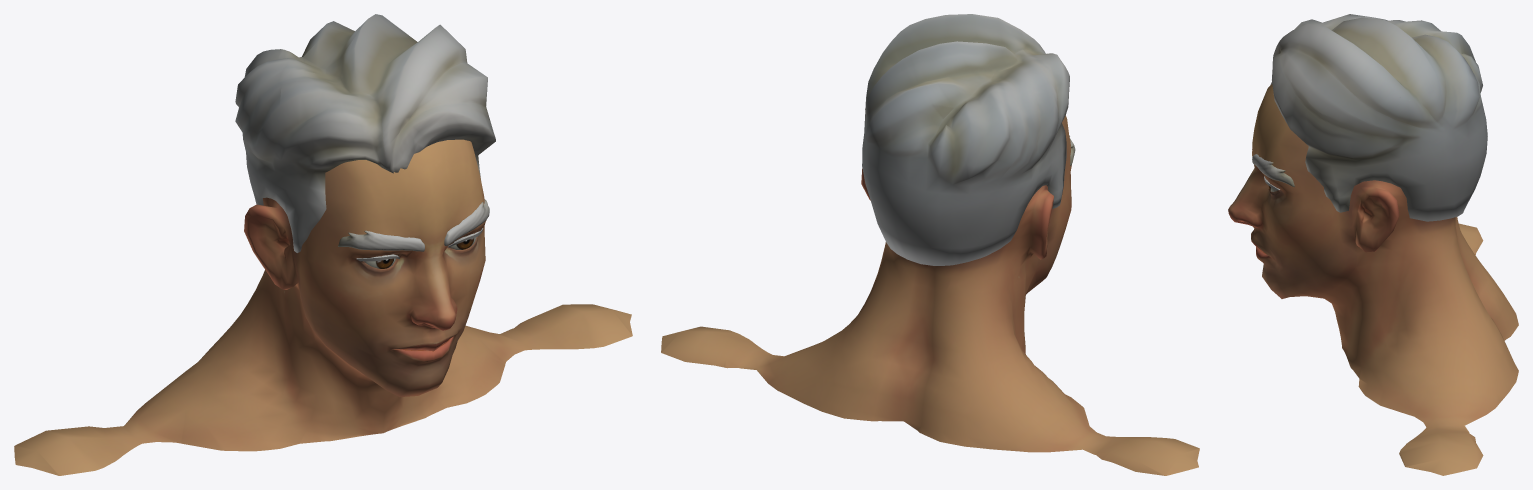
File: brasa.glb
3 renders of one model, left to right at view 1: azimuth 30°, elevation 25°; view 2: azimuth 150°, elevation 25°; view 3: azimuth 270°, elevation 25°, orthographic. The views are drawn at different scales.
Parts seen in each view (by area): view 1: SuperHero_Male, Hair_SimpleParted, Eyebrows; view 2: SuperHero_Male, Hair_SimpleParted; view 3: SuperHero_Male, Hair_SimpleParted, Eyebrows.
Part boxes in pixels (x1,y1,x2,y2): SuperHero_Male: (14,139,632,475); Hair_SimpleParted: (235,14,495,252); Eyebrows: (338,199,489,261); SuperHero_Male: (661,115,1199,475); Hair_SimpleParted: (862,14,1069,265); SuperHero_Male: (1228,84,1518,475); Hair_SimpleParted: (1270,14,1487,221); Eyebrows: (1252,149,1294,190).
Bounding box in the file's own units: 0.5206 × 0.3139 × 0.2501.
Materials: 4 (4 with a texture image).
